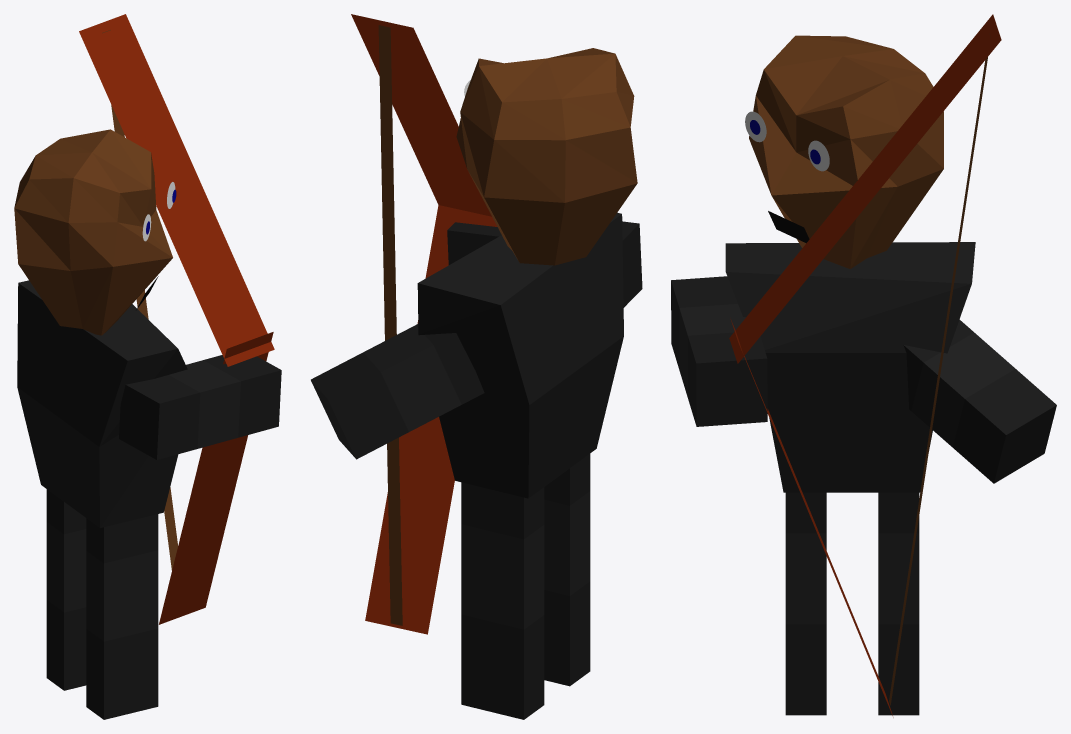
The model's file is heavyarcher2f.obj.
The picture shows the model from 3 angles, left to right: view 1: azimuth 30°, elevation 25°; view 2: azimuth 150°, elevation 25°; view 3: azimuth 270°, elevation 25°; orthographic projection. The views are drawn at different scales.
Visible parts, largest first — view 1: Cube.001, Cube, Plane.002_Plane.003, Cube.004, Cube.003, Plane.001_Plane.002, Cube.005, Plane.003_Plane.004; view 2: Cube.001, Cube, Cube.005, Cube.002, Plane.001_Plane.002, Cube.004, Plane.002_Plane.003, Plane.003_Plane.004, Cube.003; view 3: Cube.001, Cube, Cube.002, Cube.003, Plane.002_Plane.003, Cube.004, Cube.005, Plane.003_Plane.004, Plane.001_Plane.002.
Boxes of the visible parts, <box> form: Cube.001: <box>17,280,187,527</box>; Cube: <box>14,129,172,335</box>; Plane.002_Plane.003: <box>79,14,274,366</box>; Cube.004: <box>86,514,158,719</box>; Cube.003: <box>119,355,281,459</box>; Plane.001_Plane.002: <box>159,332,273,624</box>; Cube.005: <box>46,489,86,690</box>; Plane.003_Plane.004: <box>102,30,177,570</box>; Cube.001: <box>417,212,623,498</box>; Cube: <box>456,48,637,265</box>; Cube.005: <box>461,482,544,719</box>; Cube.002: <box>311,324,484,459</box>; Plane.001_Plane.002: <box>365,205,497,634</box>; Cube.004: <box>544,454,590,686</box>; Plane.002_Plane.003: <box>351,14,491,216</box>; Plane.003_Plane.004: <box>378,25,402,625</box>; Cube.003: <box>447,221,642,307</box>; Cube.001: <box>725,242,975,492</box>; Cube: <box>749,35,943,268</box>; Cube.002: <box>903,319,1056,483</box>; Cube.003: <box>671,276,767,426</box>; Plane.002_Plane.003: <box>729,14,1001,363</box>; Cube.004: <box>785,492,826,715</box>; Cube.005: <box>878,492,919,715</box>; Plane.003_Plane.004: <box>889,33,990,705</box>; Plane.001_Plane.002: <box>730,319,893,717</box>.
Bounding box in the file's own units: 2.42 × 6.6 × 3.26.
